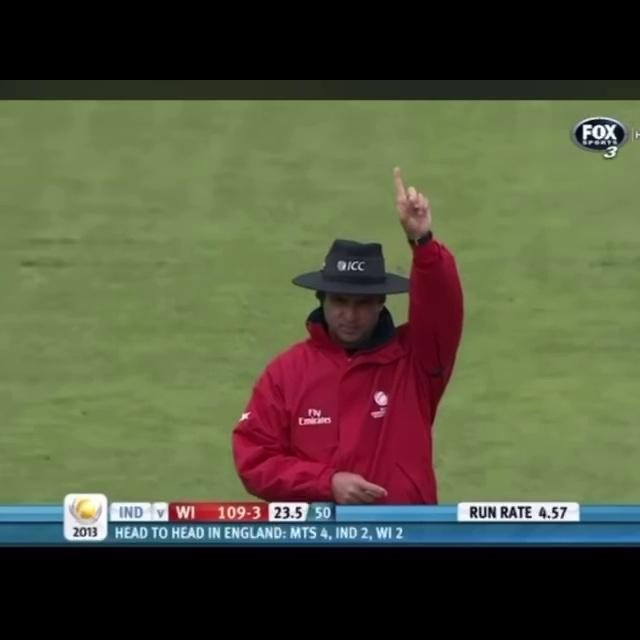umpire: (217, 163, 518, 505)
